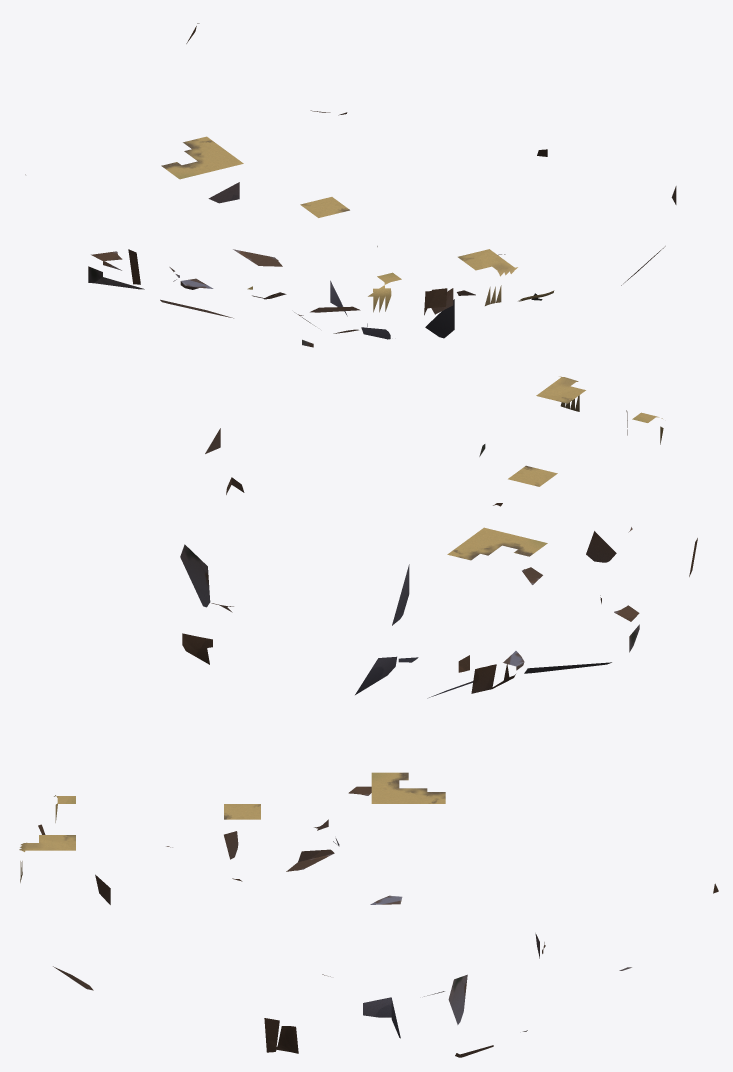
3 renders of one model, top to bottom at view 1: azimuth 30°, elevation 25°; view 2: azimuth 150°, elevation 25°; view 3: azimuth 270°, elevation 25°, orthographic.
Parts seen in each view (by area): view 1: Grass_-3_0_0, Columns_-5_-1_-1, Grass_-1_-5_0_010, Grass_-2_-2_0_000, Columns_0_-2_-2_000; view 2: Grass_-3_0_0, Columns_1_1_-1_100_100, Columns_-1_0_-2_101, Grass_-1_-5_0_010, Grass_-2_-2_0_000, Dirt_-1_4_0_110, Dirt_-3_-2_-1_000_001; view 3: Grass_-3_0_0, Dirt_4_-2_0_111, Columns_1_1_-1_100_100, Grass_-1_-5_0_010, Grass_-2_-2_0_000.
Part boxes in pixels (x1,y1,x2,y2): Grass_-3_0_0: (161,136,243,179); Columns_-5_-1_-1: (88,251,144,289); Grass_-1_-5_0_010: (458,249,507,270); Grass_-2_-2_0_000: (300,197,349,217); Columns_0_-2_-2_000: (425,299,454,338); Grass_-3_0_0: (447,527,547,560); Columns_1_1_-1_100_100: (180,544,210,607); Columns_-1_0_-2_101: (355,656,396,694); Grass_-1_-5_0_010: (536,382,585,403); Grass_-2_-2_0_000: (508,465,557,486); Dirt_-1_4_0_110: (182,633,212,664); Dirt_-3_-2_-1_000_001: (586,531,616,562); Grass_-3_0_0: (371,772,445,803); Dirt_4_-2_0_111: (264,1018,298,1053); Columns_1_1_-1_100_100: (448,974,467,1024); Grass_-1_-5_0_010: (39,835,75,850); Grass_-2_-2_0_000: (224,804,260,819).
Bounding box in the file's own units: 594 × 177 × 610.
58 materials, 58 textured.
